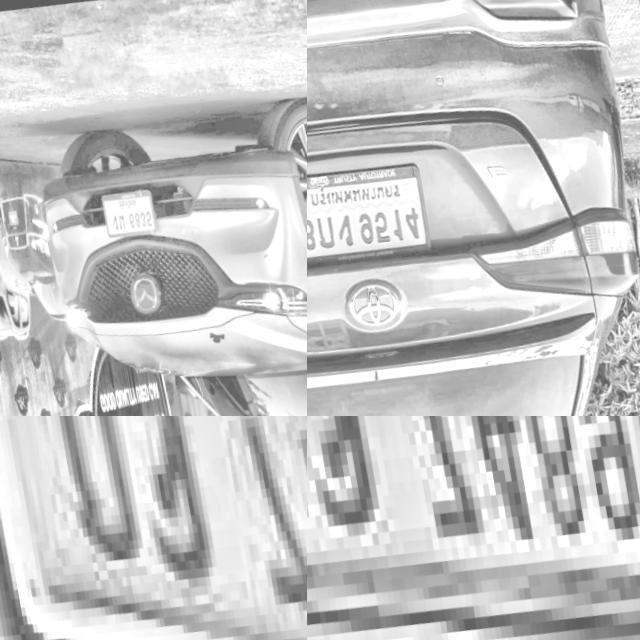license-plate: (307, 416, 640, 640), (0, 416, 307, 640), (307, 150, 435, 276), (99, 178, 161, 240)
